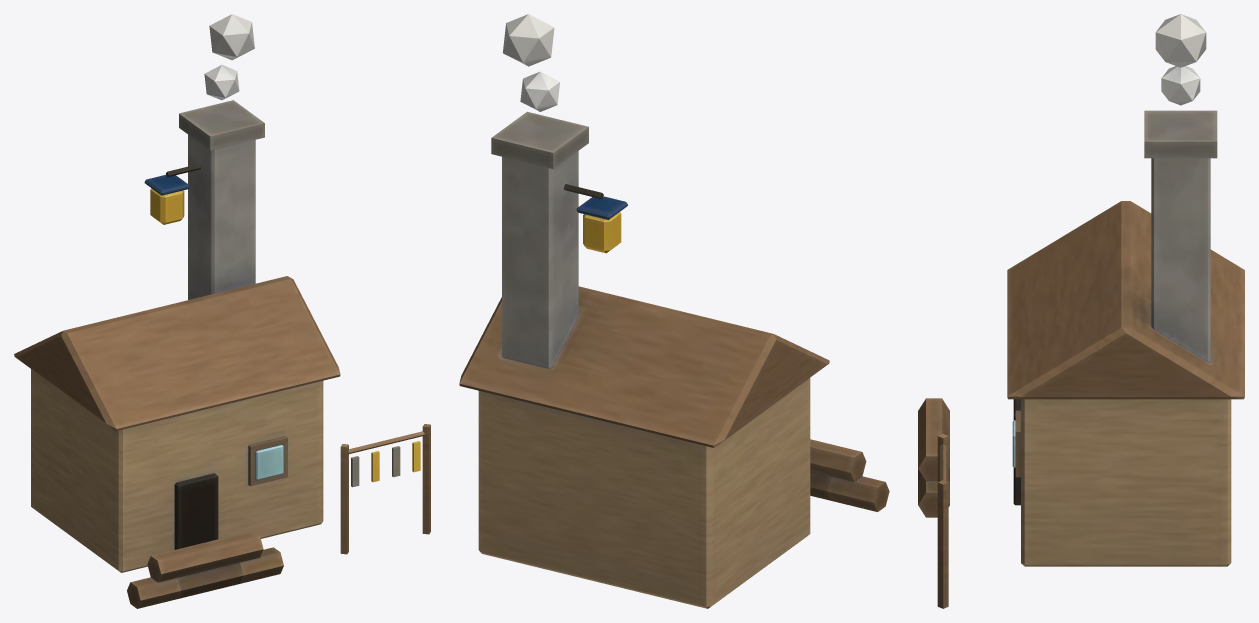
The model's file is smokehouse-3-age1.glb.
3 renders of one model, left to right at view 1: azimuth 30°, elevation 25°; view 2: azimuth 150°, elevation 25°; view 3: azimuth 270°, elevation 25°, orthographic. The views are drawn at different scales.
Parts seen in each view (by area): view 1: smokehouse-3-age1; view 2: smokehouse-3-age1; view 3: smokehouse-3-age1.
Part boxes in pixels (x1,y1,x2,y2): smokehouse-3-age1: (14, 14, 430, 608); smokehouse-3-age1: (459, 14, 889, 608); smokehouse-3-age1: (918, 14, 1244, 608).
Size of the model in its own units: 0.882 by 1.31 by 0.715.
1 material, 1 textured.
